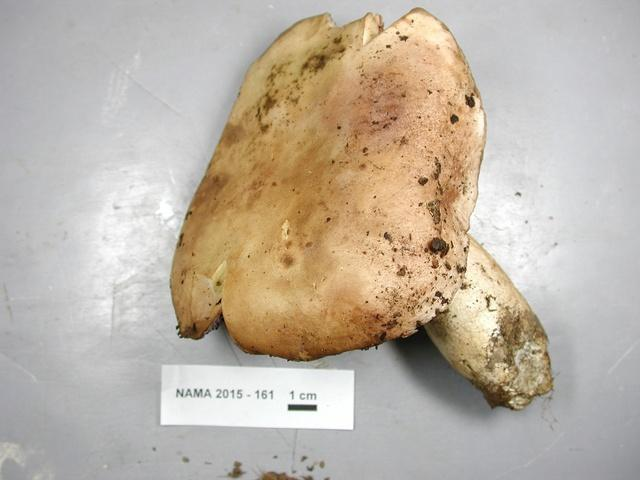Non-edible Mushroom: (166, 0, 553, 381)
